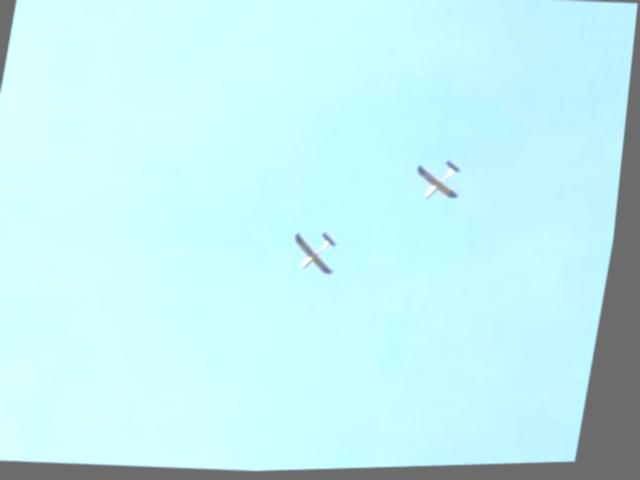uav: (295, 228, 349, 278), (413, 159, 469, 206)
